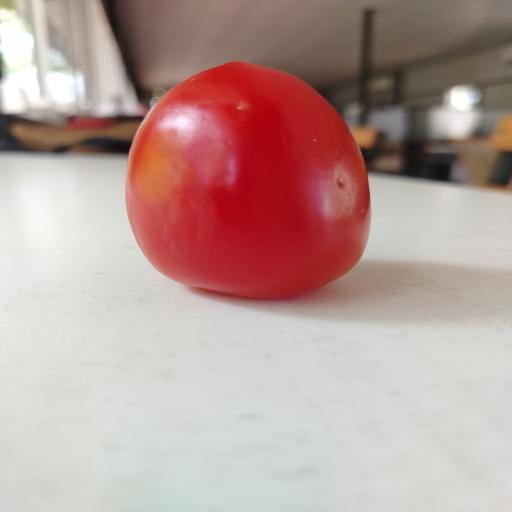ripe: (126, 62, 370, 298)
